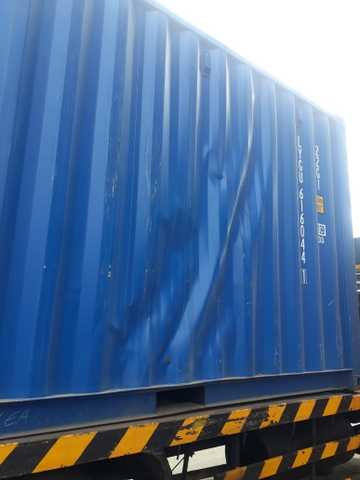bulged: (131, 104, 275, 359)
